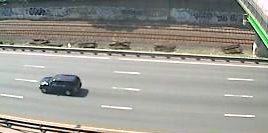car: (38, 72, 84, 97)
